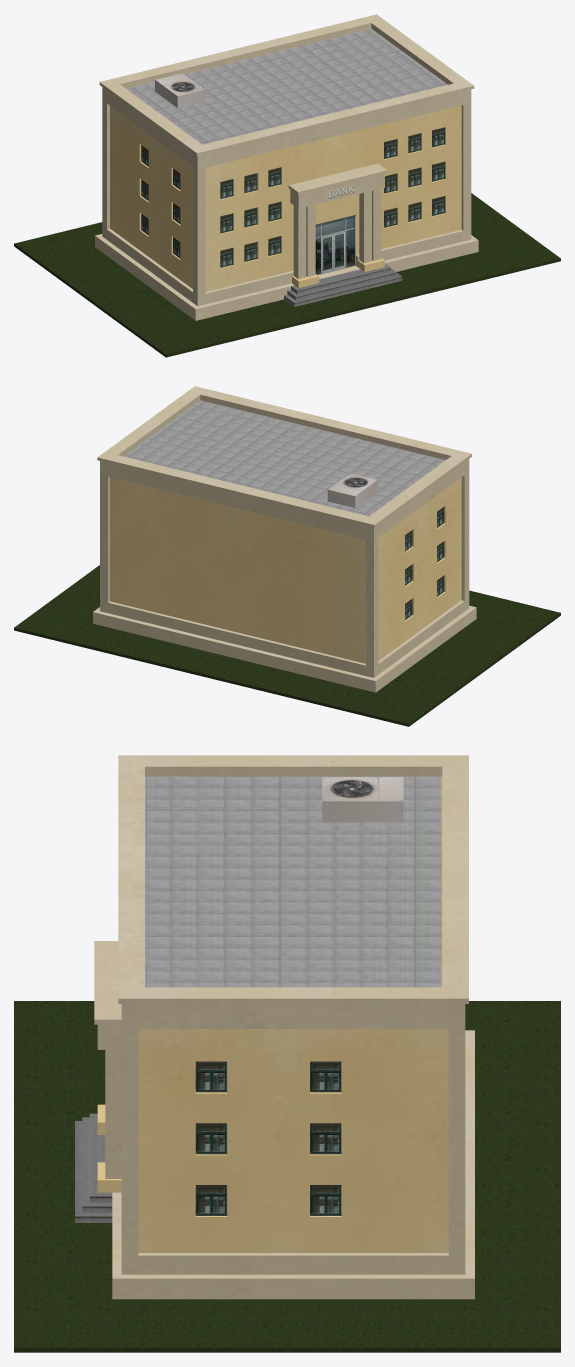
The model's file is finsim.glb.
The picture shows the model from 3 angles, top to bottom: view 1: azimuth 30°, elevation 25°; view 2: azimuth 150°, elevation 25°; view 3: azimuth 270°, elevation 25°; orthographic projection. The views are drawn at different scales.
Visible parts, largest first — view 1: finsim building, finsim ground; view 2: finsim building, finsim ground; view 3: finsim building, finsim ground.
Part boxes in pixels (<box>): finsim building: <box>95,14,478,320</box>; finsim ground: <box>14,193,560,357</box>; finsim building: <box>93,386,476,692</box>; finsim ground: <box>14,565,560,726</box>; finsim building: <box>75,755,474,1299</box>; finsim ground: <box>14,1001,560,1352</box>.
Size of the model in its own units: 3 by 1.27 by 2.
2 materials, 2 textured.
